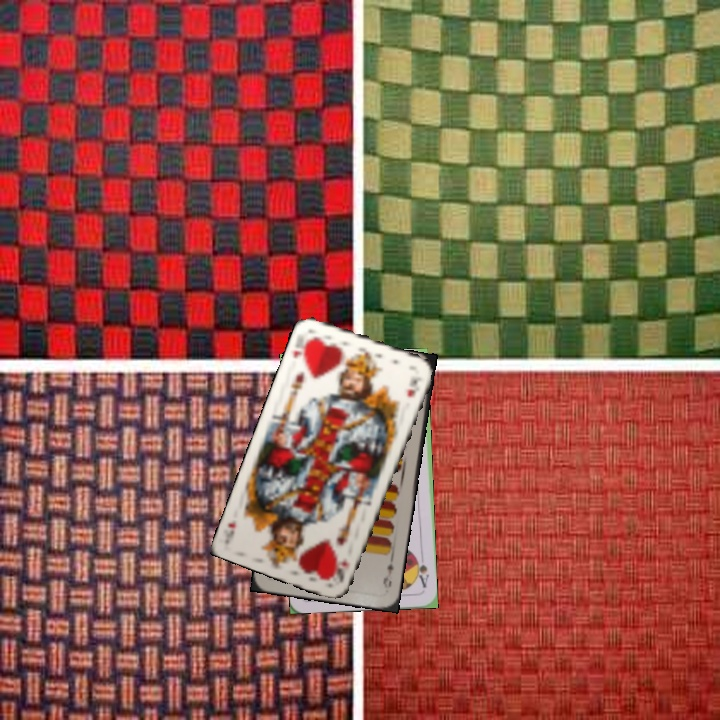E9: (379, 554, 396, 591)
HK: (288, 334, 314, 365), (333, 554, 352, 586)
SA: (412, 552, 432, 590)
